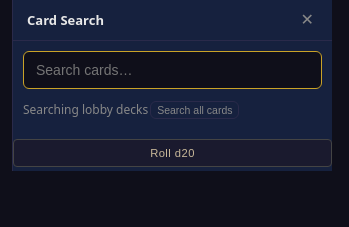
Test case: CardSidebar › lobby mode: typing a query with no match shows "No results."
Step 1. Type "xyzzy" into the field with placeholder "Search cards…" → (172, 70), box [23,51,322,89]
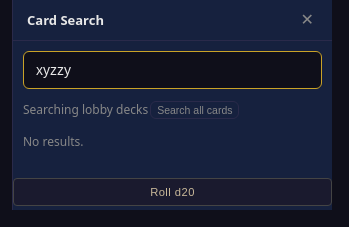
Expected: the text "No results." is shown, [23,133,84,150]
